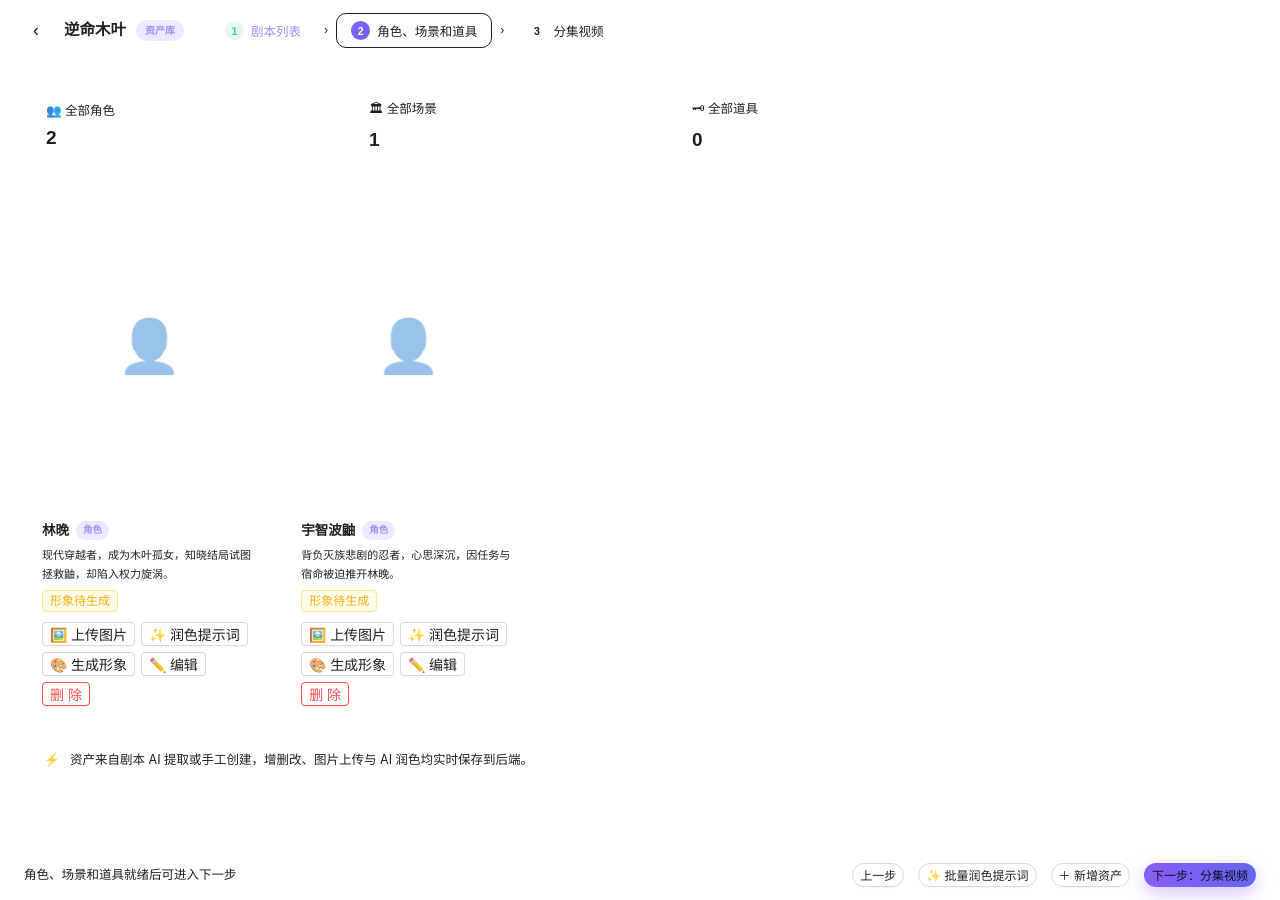
AssetsPage 资产工坊 › 手工新增资产立即持久化并出现在列表
Check: the text "林晚" is shown, box x1=42 y1=522 x2=69 y2=538
Click the button "＋ 新增资产". click: (1090,875)
box: x1=1051 y1=863 x2=1130 y2=887
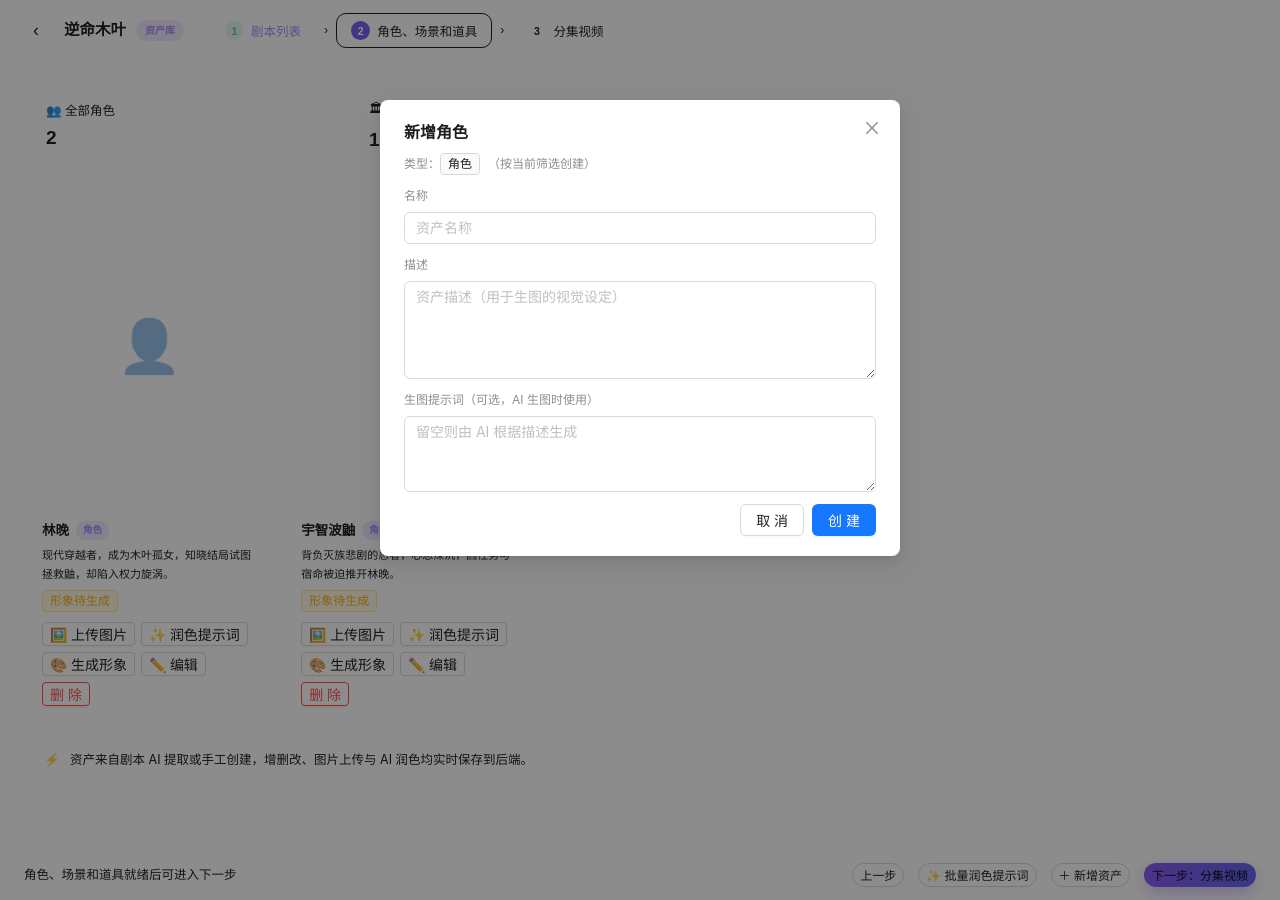
Type "宇智波止水" into the field with placeholder "资产名称". click: (640,228)
box: x1=404 y1=212 x2=876 y2=244
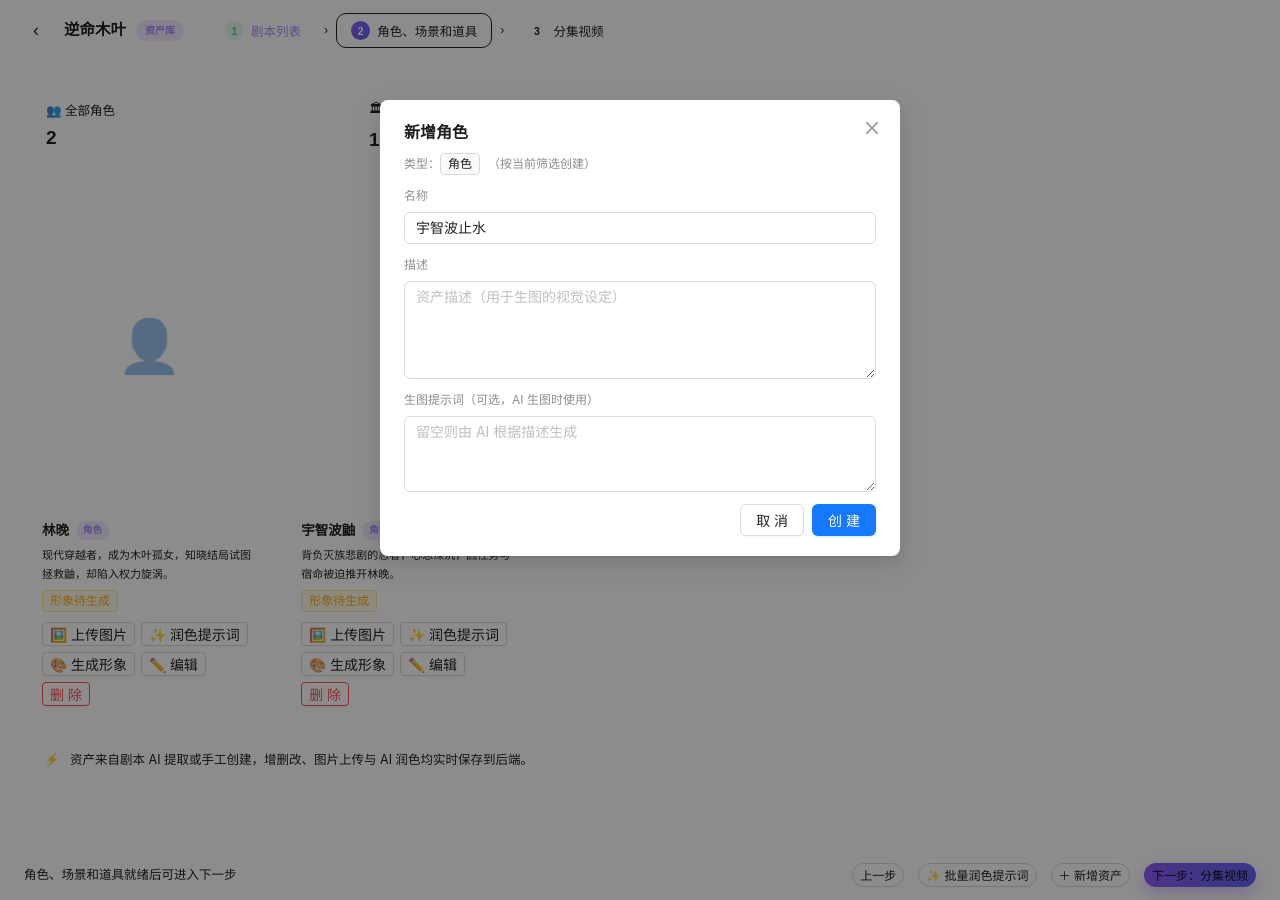
Click the button "创 建". click: (844,520)
box: x1=812 y1=504 x2=876 y2=536
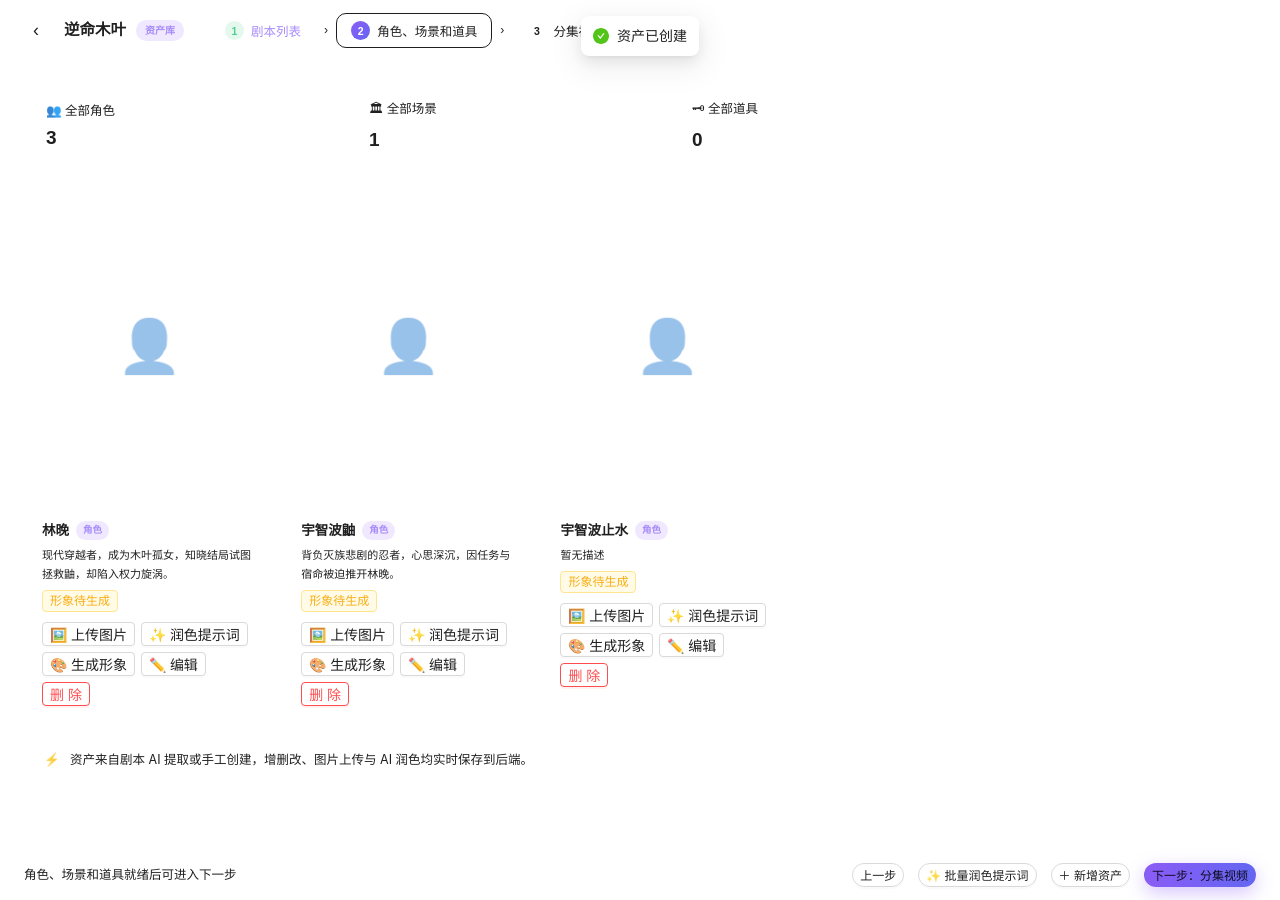
Check: the text "宇智波止水" is shown, box x1=560 y1=522 x2=628 y2=538
